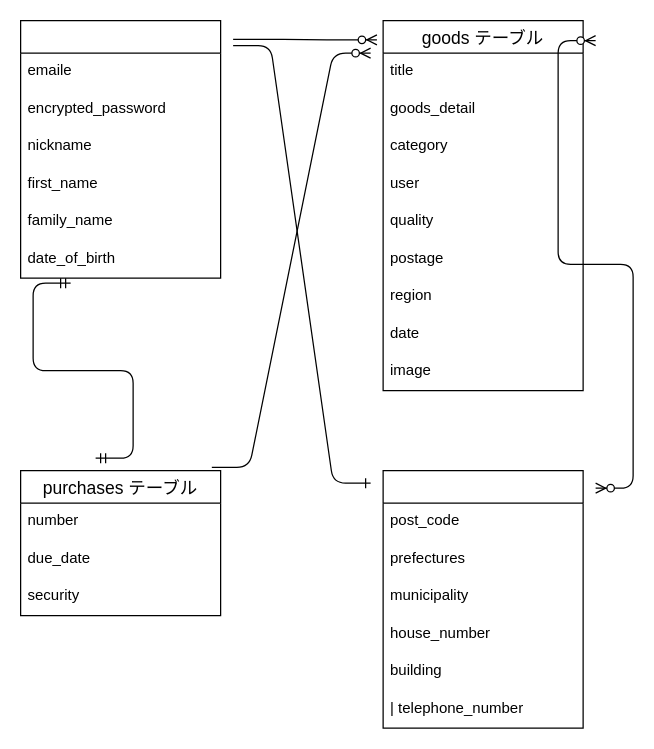
Image size: 654x749. Some labels were removed from this diagram. The box of each missing label's shape, as (x1, y1, x2, y2) in pixels:
address テーブル: (382, 469, 583, 728)
users テーブル: (19, 19, 221, 278)
